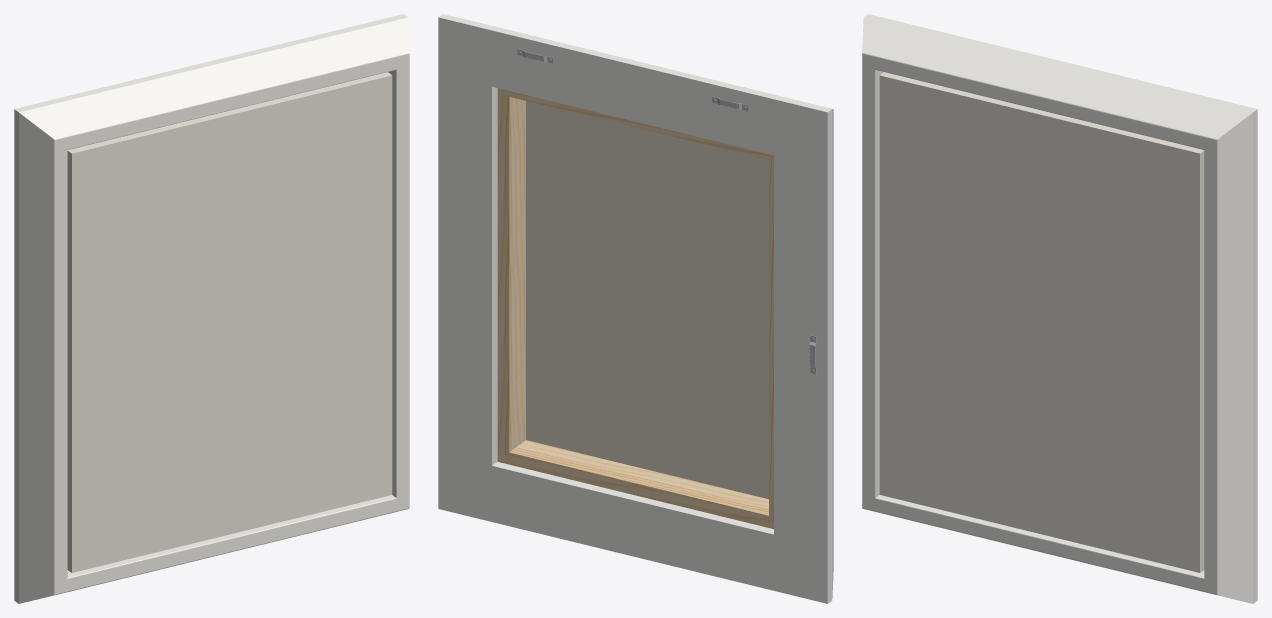
3 renders of one model, left to right at view 1: azimuth 30°, elevation 25°; view 2: azimuth 150°, elevation 25°; view 3: azimuth 330°, elevation 25°, orthographic.
Visible parts, largest first — view 1: Canvas artwork front, Tray approved profile 0; view 2: Tray approved profile 0, Canvas linen reverse, Stretcher top, Sawtooth hanger 0; view 3: Canvas artwork front, Tray approved profile 0.
Part boxes in pixels (x1=…): Canvas artwork front: x1=67, y1=72, x2=392, y2=572; Tray approved profile 0: x1=14, y1=14, x2=409, y2=603; Tray approved profile 0: x1=438, y1=14, x2=833, y2=603; Canvas linen reverse: x1=526, y1=101, x2=768, y2=499; Stretcher top: x1=497, y1=88, x2=773, y2=528; Sawtooth hanger 0: x1=517, y1=49, x2=816, y2=374; Canvas artwork front: x1=879, y1=72, x2=1204, y2=572; Tray approved profile 0: x1=862, y1=14, x2=1257, y2=603.
Bounding box in the file's own units: 0.486 × 0.586 × 0.0524.
7 materials, 2 textured.
